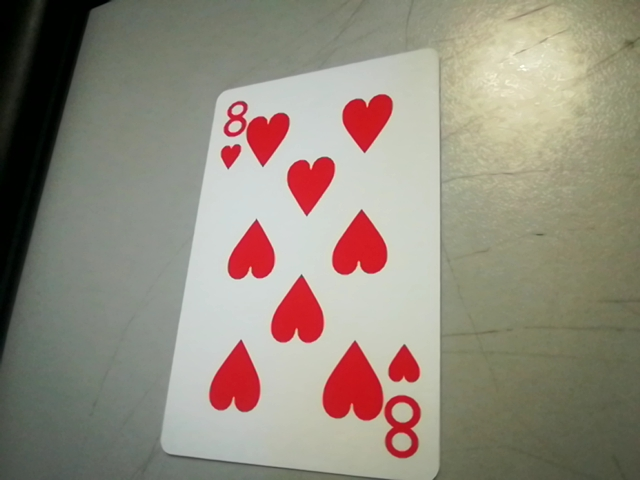hx 8: (378, 342, 437, 472)
